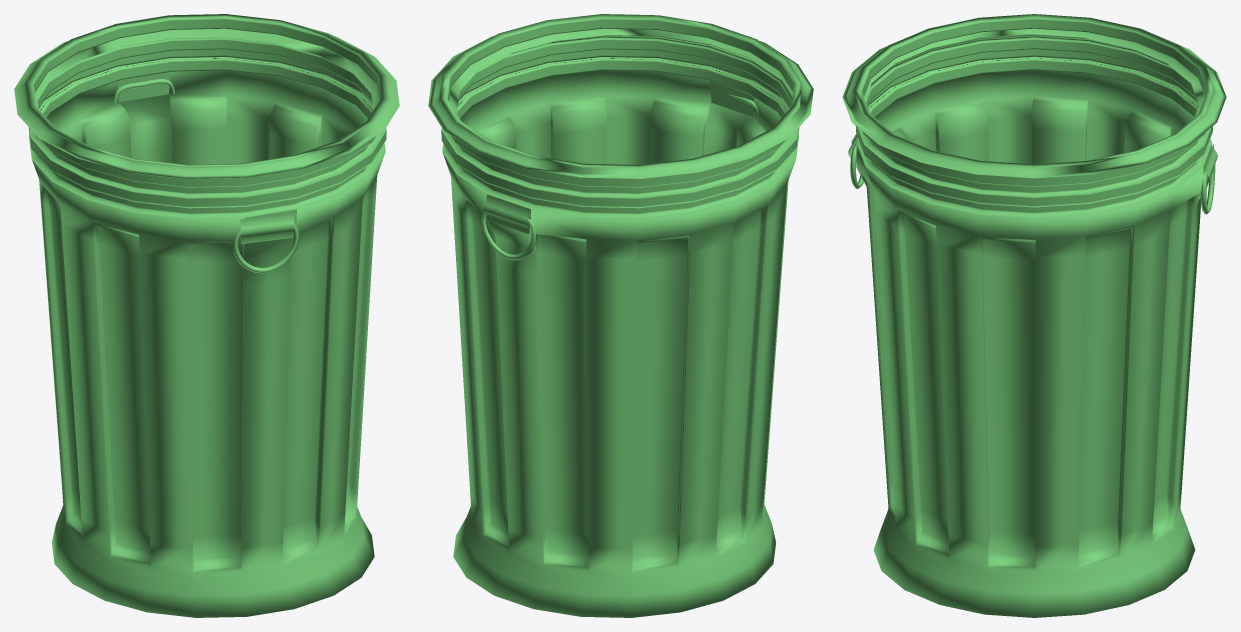
File: greenTrash.fbx
3 renders of one model, left to right at view 1: azimuth 30°, elevation 25°; view 2: azimuth 150°, elevation 25°; view 3: azimuth 270°, elevation 25°, orthographic.
Visible parts, largest first — view 1: Cylinder; view 2: Cylinder; view 3: Cylinder.
Boxes of the visible parts, x1,y1,x2,y2 form: Cylinder: (14,14,399,617); Cylinder: (428,14,813,617); Cylinder: (842,14,1226,617).
Bounding box in the file's own units: 212 × 278 × 212.
